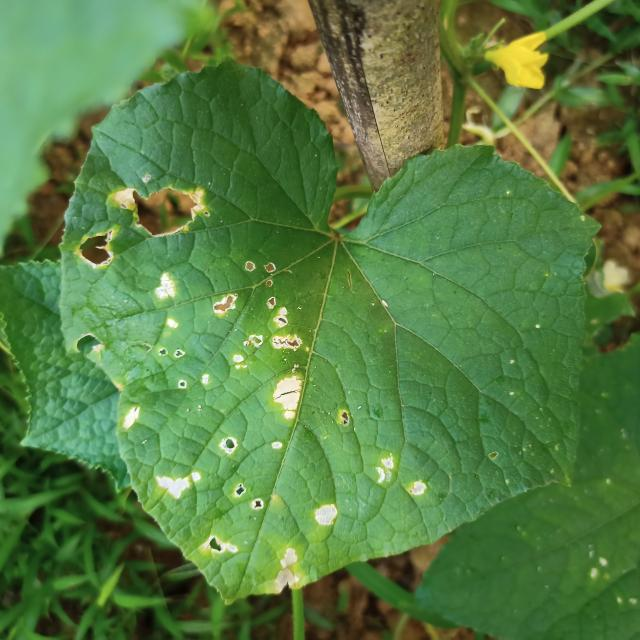disease_cucumber: (208, 258, 318, 373), (108, 178, 218, 238), (264, 364, 316, 426), (374, 453, 436, 499), (151, 466, 213, 507), (73, 228, 122, 274), (269, 541, 304, 592), (232, 479, 271, 514), (149, 266, 180, 306), (119, 405, 154, 436), (199, 531, 236, 559), (311, 501, 341, 528), (214, 434, 239, 455)
